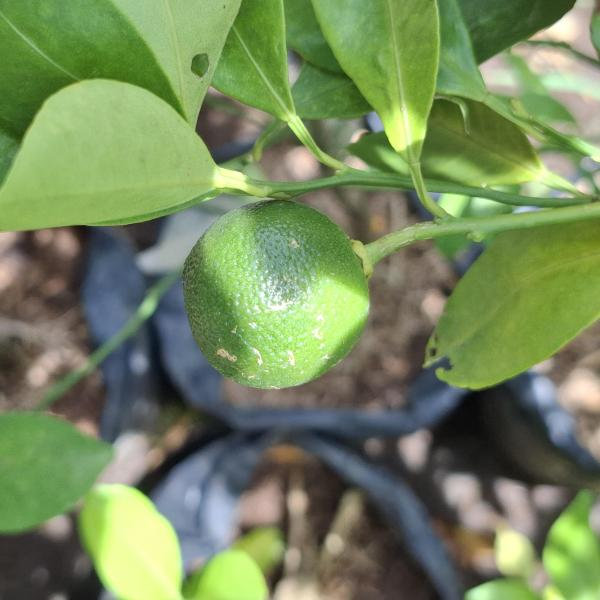Scab: (174, 192, 390, 396)
